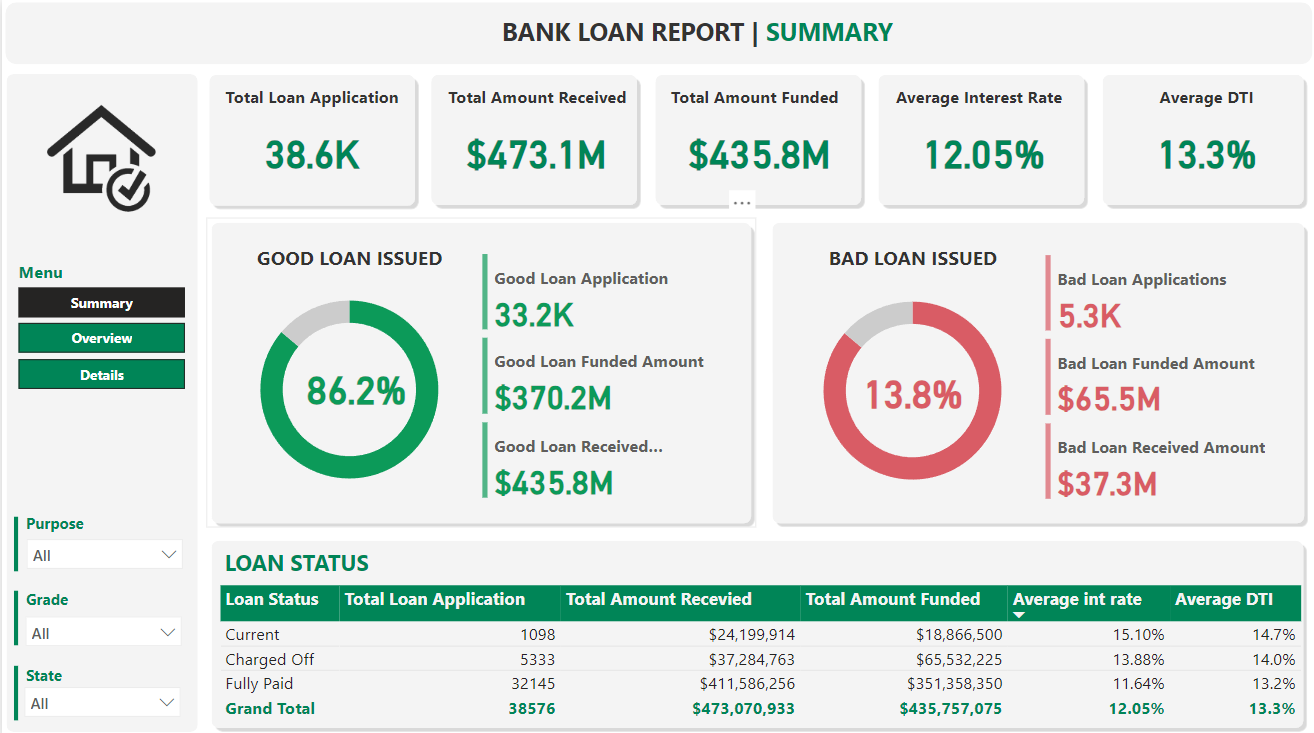

Layout of this report page (visuals, bound fields, positions):
{"tool":"powerbi","page":{"name":"Summary","canvas":[1280,720],"ordinal":0},"visuals":[{"type":"shape","box":[3.1,2.1,1272.9,60.4],"z":0},{"type":"shape","box":[4,71.9,186.3,640.9],"z":1000},{"type":"textbox","box":[365.6,8.3,622.9,53.1],"z":2000},{"type":"shape","box":[196.9,67.7,210.4,137.5],"z":3000},{"type":"shape","box":[413.4,68,210.5,137],"z":4000},{"type":"shape","box":[631.1,68,210.5,137],"z":5000},{"type":"shape","box":[848.7,68,210.5,137],"z":6000},{"type":"shape","box":[1066.3,68,206,137],"z":7000},{"type":"card","fields":{"Values":["BankLoan.total loan application"]},"box":[221.7,109.8,160,73.9],"z":8000},{"type":"textbox","box":[198.9,77.9,206.3,40],"z":9000},{"type":"textbox","box":[417.9,77.9,206.3,40],"z":10000},{"type":"textbox","box":[1069.5,77.9,206.3,40],"z":11000},{"type":"textbox","box":[630.5,77.9,206.3,40],"z":12000},{"type":"textbox","box":[848.4,77.9,206.3,40],"z":13000},{"type":"card","fields":{"Values":["BankLoan.Total Amount Recevied"]},"box":[439.4,109.8,160,73.9],"z":14000},{"type":"card","fields":{"Values":["BankLoan.Total Amount Funded"]},"box":[657.1,109.8,160,73.9],"z":15000},{"type":"card","fields":{"Values":["BankLoan.Average int rate"]},"box":[874.8,109.8,160,73.9],"z":16000},{"type":"card","fields":{"Values":["BankLoan.Average DTI"]},"box":[1092.5,109.8,160,73.9],"z":17000},{"type":"shape","box":[198.4,211.6,535.6,302.7],"z":18000},{"type":"shape","box":[198.4,521.4,1073.2,192.4],"z":19000},{"type":"shape","box":[745.2,211.6,528,302.7],"z":20000},{"type":"donutChart","fields":{"Category":["BankLoan.Good vs Bad loans"],"Y":["BankLoan.total loan application"]},"box":[755.2,266.3,262.8,226.6],"z":21000,"group":"g1"},{"type":"card","fields":{"Values":["BankLoan.Good Loan %"]},"box":[209.4,339.6,269.8,74],"z":21000},{"type":"textbox","box":[783.9,232.3,206.4,39.4],"z":22000,"group":"g1"},{"type":"donutChart","fields":{"Category":["BankLoan.Good vs Bad loans"],"Y":["BankLoan.total loan application"]},"box":[206.4,266,262.8,226.6],"z":22000},{"type":"textbox","box":[235.1,231.9,206.4,39.4],"z":23000},{"type":"cardVisual","fields":{"Data":["BankLoan.Bad Loan Applications","BankLoan.Bad Loan Funded Amount","BankLoan.Bad Loan Received Amount"]},"box":[1011.1,242.8,249,249],"z":23001,"group":"g1"},{"type":"group","id":"g1","title":"Group 1","box":[755.2,232.3,504.2,260.4],"z":24000},{"type":"cardVisual","fields":{"Data":["BankLoan.Good Loan Application","BankLoan.Good Loan Funded Amount","BankLoan.Good Loan Received Amount"]},"box":[462.2,242.4,249,249],"z":25000},{"type":"card","fields":{"Values":["BankLoan.Bad Loan %"]},"box":[752.1,342.7,269.8,74],"z":26000},{"type":"tableEx","fields":{"Values":["BankLoan.loan_status","BankLoan.total loan application","BankLoan.Total Amount Recevied","BankLoan.Total Amount Funded","BankLoan.Average int rate","BankLoan.Average DTI"]},"box":[206.2,564.6,1064.6,152.1],"z":27000},{"type":"textbox","box":[211.5,528.1,206.2,40.6],"z":28000},{"type":"slicer","fields":{"Values":["BankLoan.address_state"]},"box":[11.5,659.4,171.9,53.1],"z":29000},{"type":"slicer","fields":{"Values":["BankLoan.grade"]},"box":[12.5,590.6,171.9,50],"z":30000},{"type":"slicer","fields":{"Values":["BankLoan.purpose"]},"box":[13.5,514.6,171.9,52.1],"z":31000},{"type":"textbox","box":[18.8,494.8,111.5,40.6],"z":32000},{"type":"textbox","box":[18.8,568.8,103.1,40.6],"z":33000},{"type":"textbox","box":[18.8,641.7,131.2,40.6],"z":34000},{"type":"shape","box":[4.5,503.1,18.8,53.1],"z":35000},{"type":"shape","box":[4.5,575.5,18.8,53.1],"z":36000},{"type":"shape","box":[4.5,647.9,18.8,53.1],"z":37000},{"type":"image","box":[33,91.2,126.4,127.5],"z":42000},{"type":"pageNavigator","title":"Menu","box":[15.6,254.2,162.5,126],"z":42001}]}

Visuals, with their boxes in screenshot pixels (x1, y1, x2, y2), scaled from the page's 1280x720 canvas onto the 1314x733 screenshot:
shape: x1=3, y1=2, x2=1310, y2=64
shape: x1=4, y1=73, x2=195, y2=726
textbox: x1=375, y1=8, x2=1015, y2=63
shape: x1=202, y1=69, x2=418, y2=209
shape: x1=424, y1=69, x2=640, y2=209
shape: x1=648, y1=69, x2=864, y2=209
shape: x1=871, y1=69, x2=1087, y2=209
shape: x1=1095, y1=69, x2=1306, y2=209
card - BankLoan.total loan application: x1=228, y1=112, x2=392, y2=187
textbox: x1=204, y1=79, x2=416, y2=120
textbox: x1=429, y1=79, x2=641, y2=120
textbox: x1=1098, y1=79, x2=1310, y2=120
textbox: x1=647, y1=79, x2=859, y2=120
textbox: x1=871, y1=79, x2=1083, y2=120
card - BankLoan.Total Amount Recevied: x1=451, y1=112, x2=615, y2=187
card - BankLoan.Total Amount Funded: x1=675, y1=112, x2=839, y2=187
card - BankLoan.Average int rate: x1=898, y1=112, x2=1062, y2=187
card - BankLoan.Average DTI: x1=1122, y1=112, x2=1286, y2=187
shape: x1=204, y1=215, x2=753, y2=524
shape: x1=204, y1=531, x2=1305, y2=727
shape: x1=765, y1=215, x2=1307, y2=524
donutChart - BankLoan.Good vs Bad loans x BankLoan.total loan application: x1=775, y1=271, x2=1045, y2=502
card - BankLoan.Good Loan %: x1=215, y1=346, x2=492, y2=421
textbox: x1=805, y1=236, x2=1017, y2=277
donutChart - BankLoan.Good vs Bad loans x BankLoan.total loan application: x1=212, y1=271, x2=482, y2=501
textbox: x1=241, y1=236, x2=453, y2=276
cardVisual - BankLoan.Bad Loan Applications x BankLoan.Bad Loan Funded Amount: x1=1038, y1=247, x2=1294, y2=501
"Group 1" group: x1=775, y1=236, x2=1293, y2=502
cardVisual - BankLoan.Good Loan Application x BankLoan.Good Loan Funded Amount: x1=474, y1=247, x2=730, y2=500
card - BankLoan.Bad Loan %: x1=772, y1=349, x2=1049, y2=424
tableEx - BankLoan.loan_status x BankLoan.total loan application: x1=212, y1=575, x2=1305, y2=730
textbox: x1=217, y1=538, x2=429, y2=579
slicer - BankLoan.address_state: x1=12, y1=671, x2=188, y2=725
slicer - BankLoan.grade: x1=13, y1=601, x2=189, y2=652
slicer - BankLoan.purpose: x1=14, y1=524, x2=190, y2=577
textbox: x1=19, y1=504, x2=134, y2=545
textbox: x1=19, y1=579, x2=125, y2=620
textbox: x1=19, y1=653, x2=154, y2=695
shape: x1=5, y1=512, x2=24, y2=566
shape: x1=5, y1=586, x2=24, y2=640
shape: x1=5, y1=660, x2=24, y2=714
image: x1=34, y1=93, x2=164, y2=223
"Menu" pageNavigator: x1=16, y1=259, x2=183, y2=387
